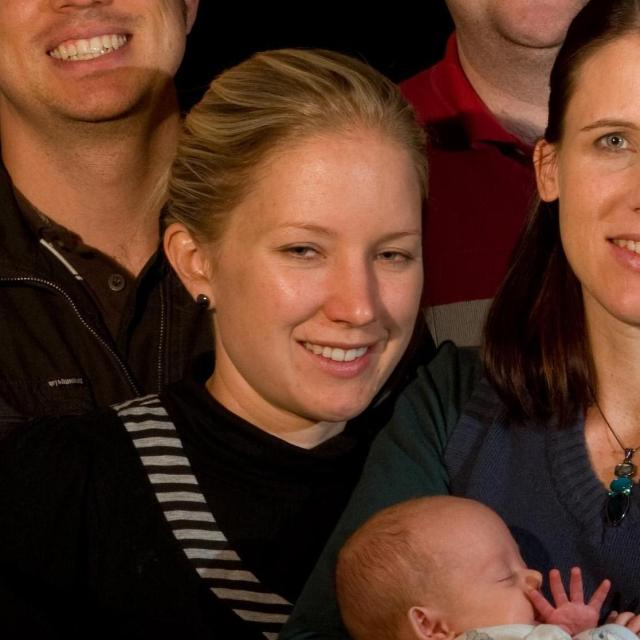no-glass: (271, 238, 419, 270)
